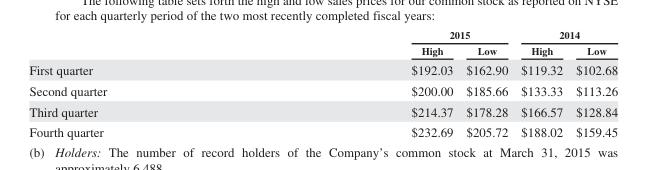table: (28, 28, 617, 139)
table column: (28, 28, 258, 139), (258, 28, 459, 139), (513, 28, 568, 139), (459, 28, 513, 139), (568, 28, 617, 139)
table column header: (28, 28, 617, 59)
table row: (28, 59, 617, 80), (28, 100, 617, 121), (28, 80, 617, 100), (28, 121, 617, 139), (28, 42, 617, 59), (28, 28, 617, 42)
table spanning cell: (258, 28, 513, 42), (513, 28, 617, 42)
